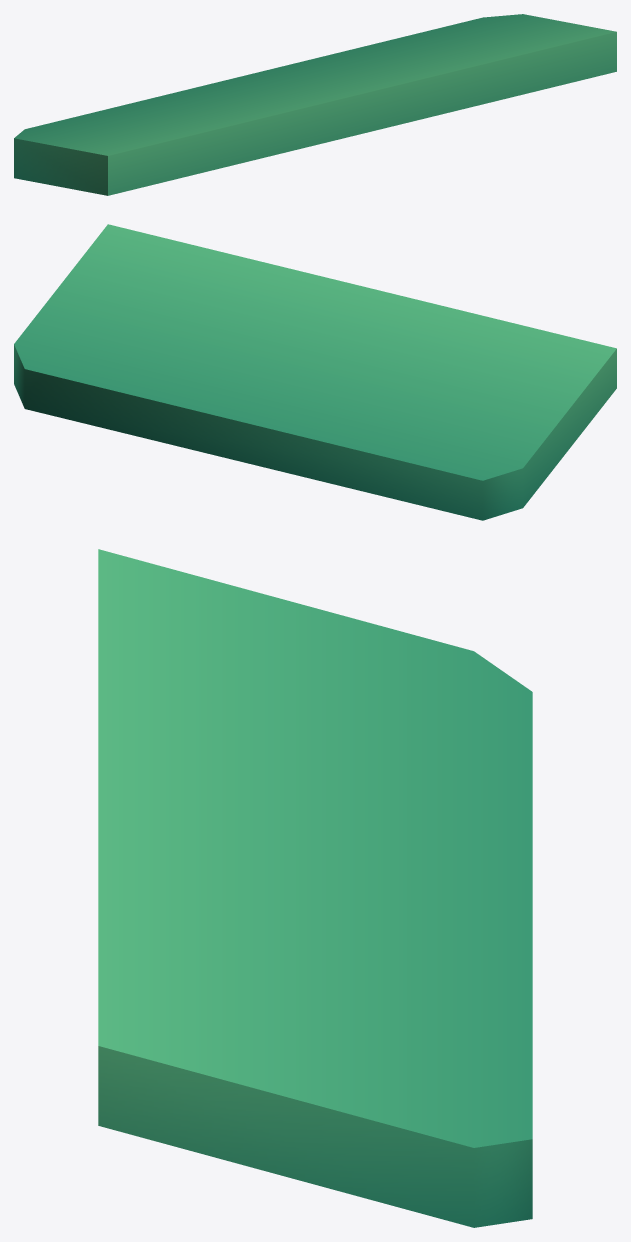
The model's file is detail-awning.glb.
The picture shows the model from 3 angles, top to bottom: view 1: azimuth 30°, elevation 25°; view 2: azimuth 150°, elevation 25°; view 3: azimuth 270°, elevation 25°; orthographic projection. The views are drawn at different scales.
Parts seen in each view (by area): view 1: detail-awning; view 2: detail-awning; view 3: detail-awning.
Boxes of the visible parts, x1,y1,x2,y2 form: detail-awning: (14, 14, 616, 195); detail-awning: (14, 224, 616, 520); detail-awning: (98, 549, 532, 1227).
Bounding box in the file's own units: 0.4 × 0.0744 × 0.1479.
1 material, 1 textured.
